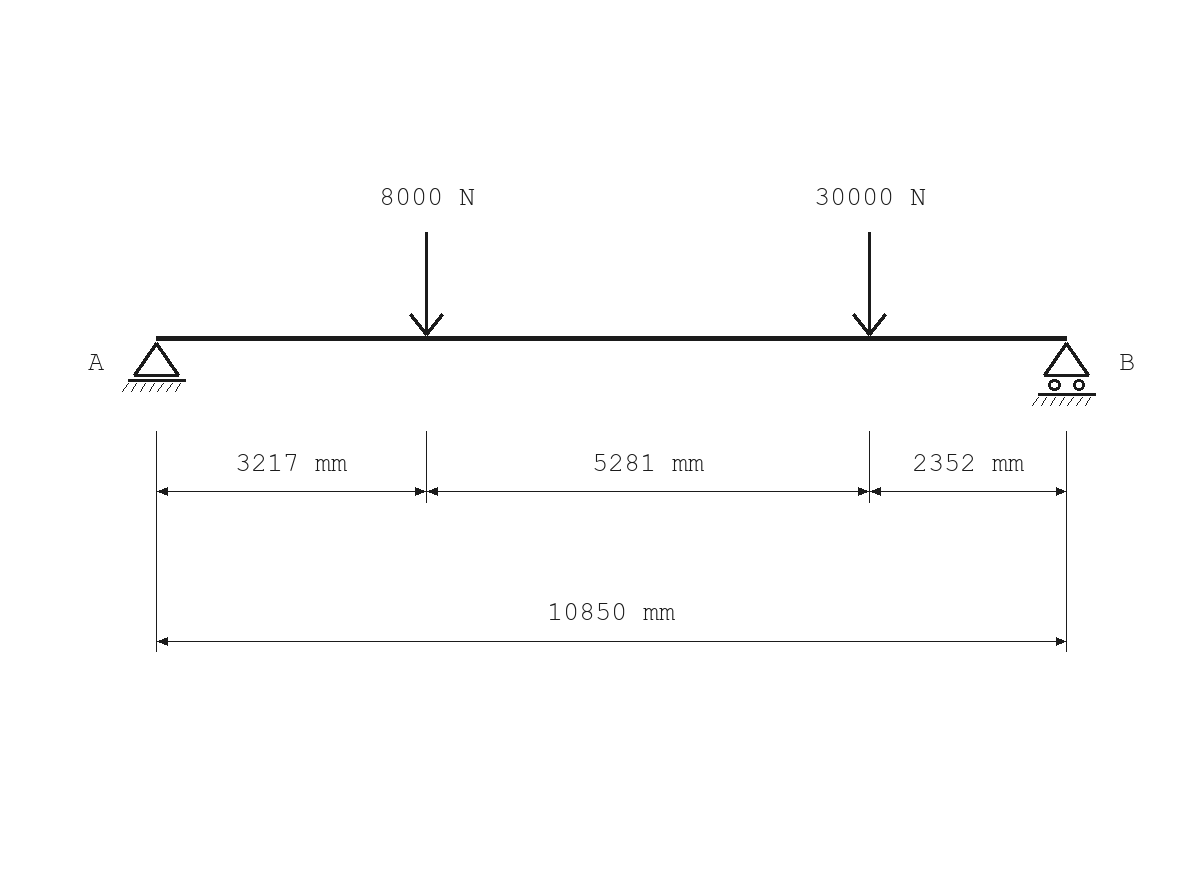pin_support: (122, 342, 186, 392)
point_load: (409, 232, 444, 336), (852, 232, 887, 336)
roller_support: (1032, 342, 1096, 406)
